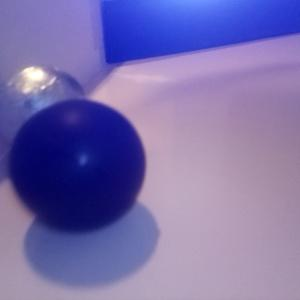alive_ball: (1, 65, 87, 158)
dead_ball: (7, 100, 145, 231)
